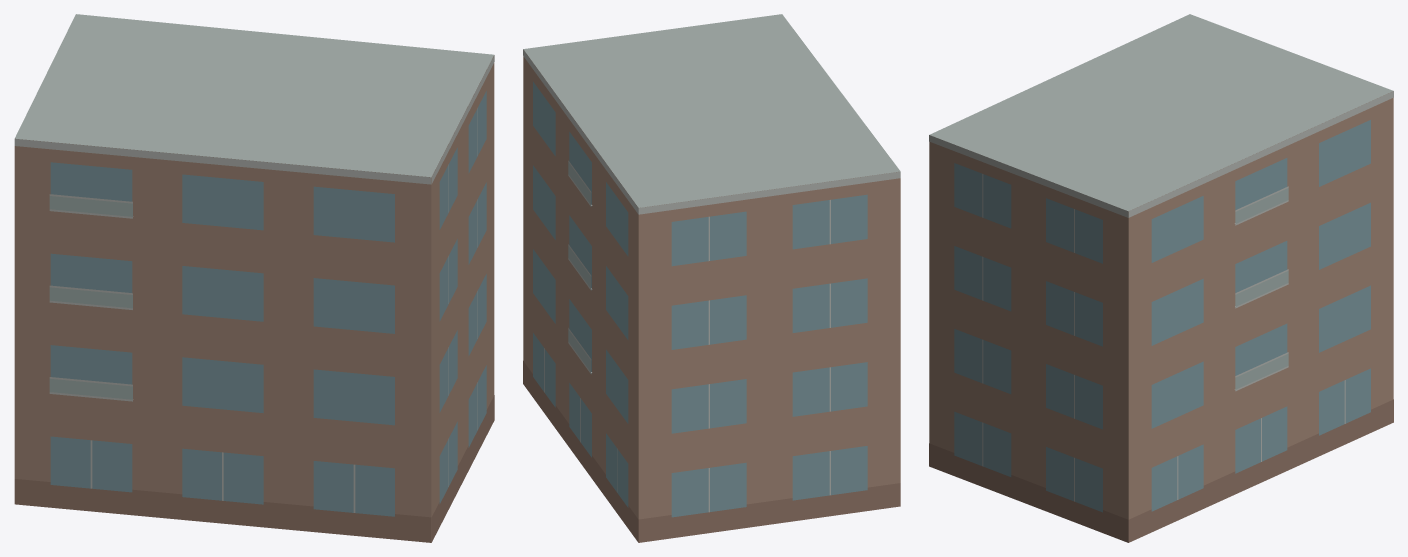
File: survey-upis-32721059.glb
3 views of the same model, side by side, from view 1: azimuth 30°, elevation 25°; view 2: azimuth 150°, elevation 25°; view 3: azimuth 270°, elevation 25° (orthographic). The views are drawn at different scales.
Visible parts, largest first — view 1: survey-upis-32721059.tmp; view 2: survey-upis-32721059.tmp; view 3: survey-upis-32721059.tmp.
Part boxes in pixels (x1,y1,x2,y2): survey-upis-32721059.tmp: (14, 14, 494, 542); survey-upis-32721059.tmp: (523, 14, 900, 542); survey-upis-32721059.tmp: (929, 14, 1393, 542).
Size of the model in its own units: 15.58 by 12.2 by 15.5.
